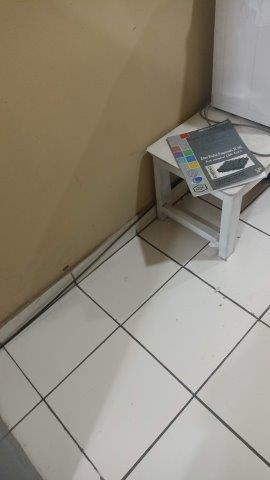kertas: (165, 119, 267, 201)
